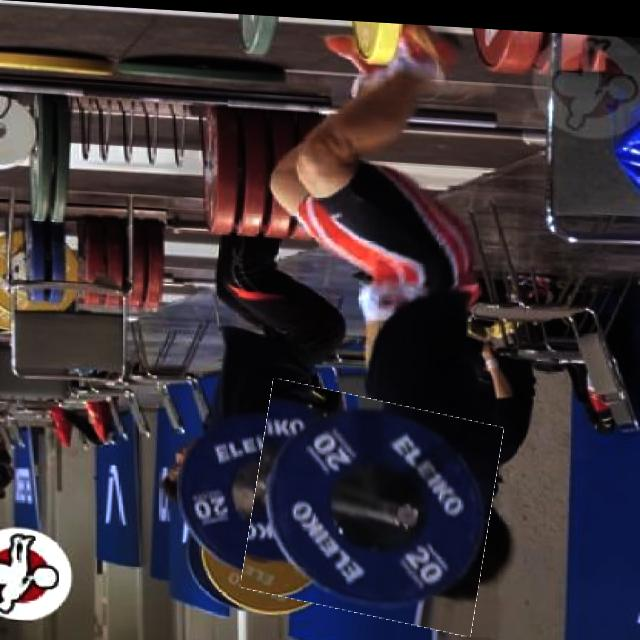barbell: (250, 383, 497, 625)
